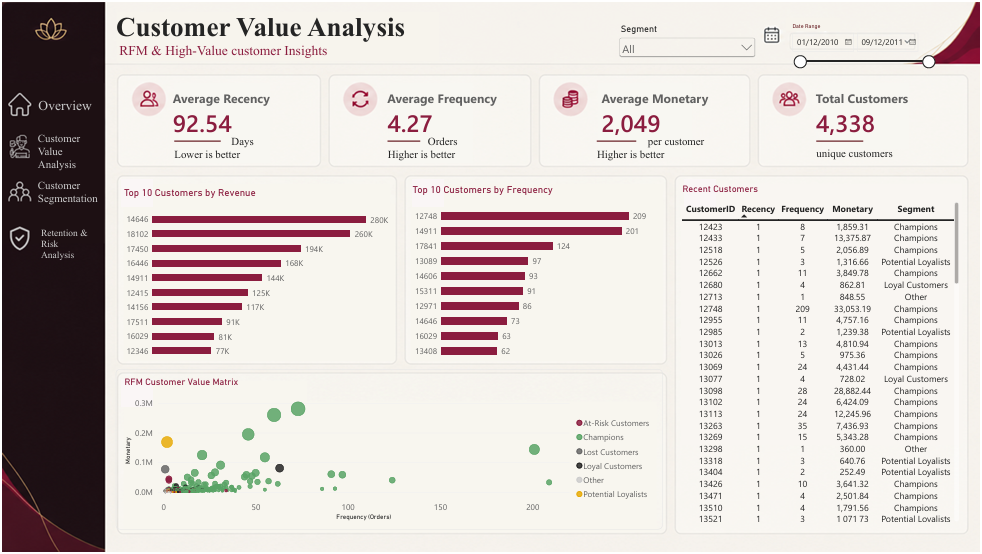

Layout of this report page (visuals, bound fields, positions):
{"tool":"powerbi","page":{"name":"Customer Value Analysis","canvas":[1920,1080],"ordinal":1},"visuals":[{"type":"cardVisual","fields":{"Data":["KPI Cards.Average Recency"]},"box":[319,154.3,261.1,132.7],"z":0},{"type":"cardVisual","fields":{"Data":["KPI Cards.Average Frequency"]},"box":[740.2,154.3,261.1,132.7],"z":1000},{"type":"cardVisual","fields":{"Data":["KPI Cards.Average Monetary"]},"box":[1161.3,154.3,261.1,132.7],"z":2000},{"type":"cardVisual","fields":{"Data":["KPI Cards.Total Customers"]},"box":[1582.5,154.3,261.1,132.7],"z":3000},{"type":"shape","box":[337.8,198.1,91.7,150.1],"z":4000},{"type":"shape","box":[756.8,198.1,64.6,150.1],"z":5000},{"type":"shape","box":[1167.6,198.1,77.1,150.1],"z":6000},{"type":"shape","box":[1599.2,198.1,91.7,150.1],"z":7000},{"type":"textbox","box":[337.8,287.7,258.5,25],"z":8000},{"type":"textbox","box":[756.8,287.7,258.5,25],"z":9000},{"type":"textbox","box":[1167.6,287.7,258.5,25],"z":10000},{"type":"textbox","box":[450.3,260.6,145.9,25],"z":11000},{"type":"textbox","box":[836.1,260.6,145.9,25],"z":12000},{"type":"textbox","box":[1267.6,260.6,145.9,25],"z":13000},{"type":"textbox","box":[1599.2,285.6,223.1,27.1],"z":14000},{"type":"slicer","fields":{"Values":["transactions_clean.InvoiceDate"]},"box":[1544.3,41.4,291.4,91.4],"z":15000},{"type":"textbox","box":[223.1,16.7,736,102.2],"z":16000},{"type":"textbox","box":[70.9,187.6,125.1,35.4],"z":17000},{"type":"textbox","box":[69.8,256.4,137.6,79.2],"z":18000},{"type":"textbox","box":[69.8,348.2,137.6,70.9],"z":19000},{"type":"textbox","box":[76.1,442,125.1,75.1],"z":20000},{"type":"shape","box":[233.5,348.2,62.5,54.2],"z":21000},{"type":"clusteredBarChart","title":"Top 10 Customers by Revenue","fields":{"Category":["transactions_clean.CustomerID"],"Y":["Sum(transactions_clean.Revenue)"]},"box":[222.6,348.9,552.2,372.4],"z":22000},{"type":"shape","box":[804.8,348.2,62.5,54.2],"z":23000},{"type":"shape","box":[1340.6,348.2,62.5,54.2],"z":24000},{"type":"shape","box":[233.5,742.2,62.5,54.2],"z":25000},{"type":"clusteredBarChart","title":"Top 10 Customers by Frequency","fields":{"Category":["transactions_clean.CustomerID"],"Y":["Sum(customer_rfm_final.Frequency)"]},"box":[789.8,342.5,528.7,378.9],"z":26000},{"type":"tableEx","title":"Recent Customers","fields":{"Values":["customer_rfm_final.CustomerID","customer_rfm_final.Recency","customer_rfm_final.Frequency","customer_rfm_final.Monetary","customer_rfm_final.Segment"]},"box":[1319.8,341.9,575.4,694.3],"z":27000},{"type":"scatterChart","title":"RFM Customer Value Matrix","fields":{"Series":["customer_rfm_final.Segment"],"Size":["Sum(customer_rfm_final.Monetary)"],"X":["customer_rfm_final.Frequency"],"Y":["customer_rfm_final.Monetary"]},"box":[223.1,721.4,1073.7,314.8],"z":28000},{"type":"shape","box":[70.9,187.6,118.8,50],"z":29000},{"type":"slicer","fields":{"Values":["customer_rfm_final.Segment"]},"box":[1207.2,41.7,277.3,77.1],"z":30000},{"type":"shape","box":[64.6,354.4,131.4,68.8],"z":31000},{"type":"shape","box":[64.6,442,125.1,75.1],"z":32000}]}

Visuals, with their boxes on the page's 1920x1080 design canvas (x1, y1, x2, y2). These are canvas units, not pixel positions in the 982x554 screenshot, which may show the page scaled, cropped or inside an application window:
cardVisual - KPI Cards.Average Recency: bbox(319, 154, 580, 287)
cardVisual - KPI Cards.Average Frequency: bbox(740, 154, 1001, 287)
cardVisual - KPI Cards.Average Monetary: bbox(1161, 154, 1422, 287)
cardVisual - KPI Cards.Total Customers: bbox(1582, 154, 1844, 287)
shape: bbox(338, 198, 430, 348)
shape: bbox(757, 198, 821, 348)
shape: bbox(1168, 198, 1245, 348)
shape: bbox(1599, 198, 1691, 348)
textbox: bbox(338, 288, 596, 313)
textbox: bbox(757, 288, 1015, 313)
textbox: bbox(1168, 288, 1426, 313)
textbox: bbox(450, 261, 596, 286)
textbox: bbox(836, 261, 982, 286)
textbox: bbox(1268, 261, 1414, 286)
textbox: bbox(1599, 286, 1822, 313)
slicer - transactions_clean.InvoiceDate: bbox(1544, 41, 1836, 133)
textbox: bbox(223, 17, 959, 119)
textbox: bbox(71, 188, 196, 223)
textbox: bbox(70, 256, 207, 336)
textbox: bbox(70, 348, 207, 419)
textbox: bbox(76, 442, 201, 517)
shape: bbox(234, 348, 296, 402)
"Top 10 Customers by Revenue" clusteredBarChart: bbox(223, 349, 775, 721)
shape: bbox(805, 348, 867, 402)
shape: bbox(1341, 348, 1403, 402)
shape: bbox(234, 742, 296, 796)
"Top 10 Customers by Frequency" clusteredBarChart: bbox(790, 342, 1318, 721)
"Recent Customers" tableEx: bbox(1320, 342, 1895, 1036)
"RFM Customer Value Matrix" scatterChart: bbox(223, 721, 1297, 1036)
shape: bbox(71, 188, 190, 238)
slicer - customer_rfm_final.Segment: bbox(1207, 42, 1484, 119)
shape: bbox(65, 354, 196, 423)
shape: bbox(65, 442, 190, 517)
